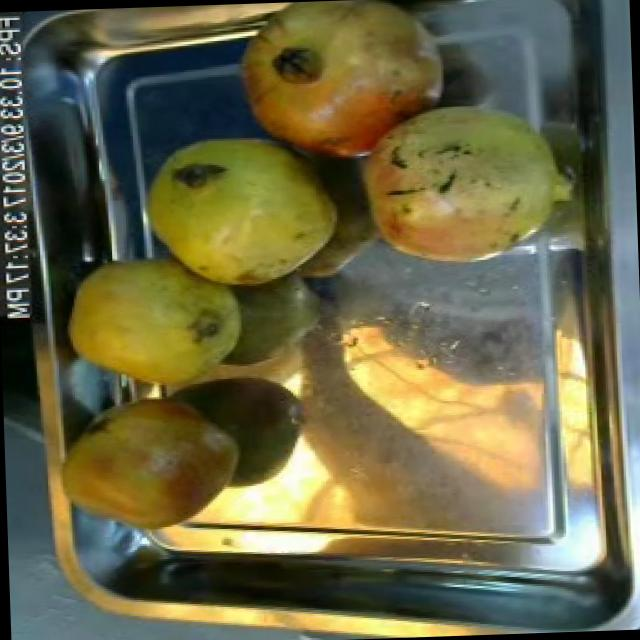fruit: (349, 82, 592, 282), (217, 0, 466, 175), (132, 117, 352, 296), (47, 381, 253, 544), (57, 240, 256, 405)
